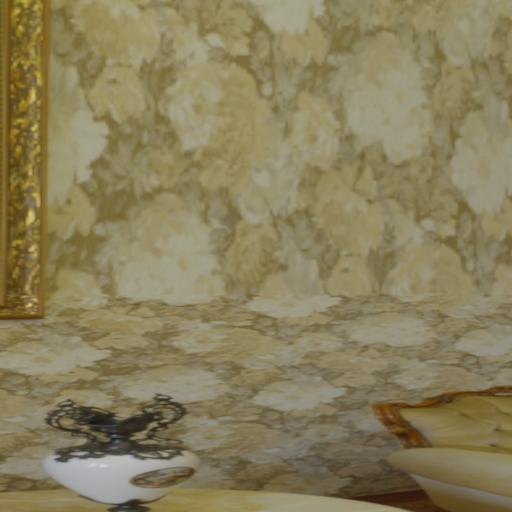nothing: (7, 2, 512, 510)
